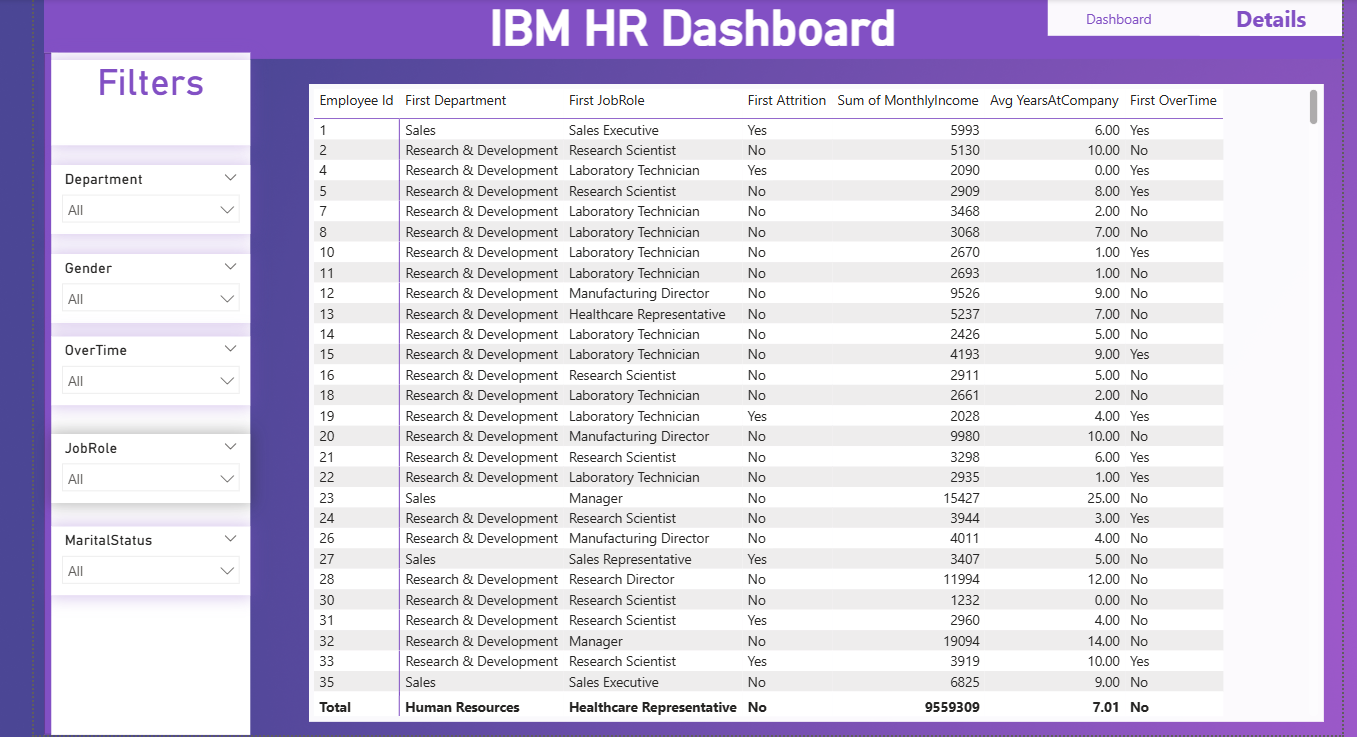

The dashboard page shown, as its layout file describes it:
{"tool":"powerbi","page":{"name":"Details","canvas":[1280,720],"ordinal":1},"visuals":[{"type":"textbox","title":"IBM HR Dashboard","box":[10,0,1270,58.6],"z":0},{"type":"shape","box":[10,52.9,12.9,667.1],"z":1000},{"type":"shape","box":[17.1,52.9,194.3,667.1],"z":2000},{"type":"textbox","title":"Filters","box":[17.1,60,194.3,82.9],"z":3000},{"type":"slicer","fields":{"Values":["WA_Fn_UseC__HR_Employee_Attrition.Department"]},"box":[17.1,162.9,194.3,67.1],"z":4000},{"type":"slicer","fields":{"Values":["WA_Fn_UseC__HR_Employee_Attrition.Department"]},"box":[17.1,162.9,194.3,67.1],"z":5000},{"type":"slicer","fields":{"Values":["WA_Fn_UseC__HR_Employee_Attrition.Gender"]},"box":[17.1,250,194.3,67.1],"z":6000},{"type":"slicer","fields":{"Values":["WA_Fn_UseC__HR_Employee_Attrition.JobRole"]},"box":[17.1,425.7,194.3,67.1],"z":7000},{"type":"slicer","fields":{"Values":["WA_Fn_UseC__HR_Employee_Attrition.MaritalStatus"]},"box":[17.1,515.7,194.3,67.1],"z":8000},{"type":"slicer","fields":{"Values":["WA_Fn_UseC__HR_Employee_Attrition.OverTime"]},"box":[17.1,330,194.3,67.1],"z":9000},{"type":"pivotTable","fields":{"Values":["Min(WA_Fn_UseC__HR_Employee_Attrition.Department)","Min(WA_Fn_UseC__HR_Employee_Attrition.JobRole)","Min(WA_Fn_UseC__HR_Employee_Attrition.Attrition)","Sum(WA_Fn_UseC__HR_Employee_Attrition.MonthlyIncome)","WA_Fn_UseC__HR_Employee_Attrition.Avg YearsAtCompany","Min(WA_Fn_UseC__HR_Employee_Attrition.OverTime)"],"Rows":["WA_Fn_UseC__HR_Employee_Attrition.Employee Id"]},"box":[268.8,83.8,992.5,623.8],"z":10000},{"type":"pageNavigator","box":[991.2,0,288.8,36.2],"z":11000}]}

Visuals, with their boxes on the page's 1280x720 design canvas (x1, y1, x2, y2). These are canvas units, not pixel positions in the 1357x737 screenshot, which may show the page scaled, cropped or inside an application window:
"IBM HR Dashboard" textbox: {"x1": 10, "y1": 0, "x2": 1280, "y2": 59}
shape: {"x1": 10, "y1": 53, "x2": 23, "y2": 720}
shape: {"x1": 17, "y1": 53, "x2": 211, "y2": 720}
"Filters" textbox: {"x1": 17, "y1": 60, "x2": 211, "y2": 143}
slicer - WA_Fn_UseC__HR_Employee_Attrition.Department: {"x1": 17, "y1": 163, "x2": 211, "y2": 230}
slicer - WA_Fn_UseC__HR_Employee_Attrition.Department: {"x1": 17, "y1": 163, "x2": 211, "y2": 230}
slicer - WA_Fn_UseC__HR_Employee_Attrition.Gender: {"x1": 17, "y1": 250, "x2": 211, "y2": 317}
slicer - WA_Fn_UseC__HR_Employee_Attrition.JobRole: {"x1": 17, "y1": 426, "x2": 211, "y2": 493}
slicer - WA_Fn_UseC__HR_Employee_Attrition.MaritalStatus: {"x1": 17, "y1": 516, "x2": 211, "y2": 583}
slicer - WA_Fn_UseC__HR_Employee_Attrition.OverTime: {"x1": 17, "y1": 330, "x2": 211, "y2": 397}
pivotTable - Min(WA_Fn_UseC__HR_Employee_Attrition.Department) x Min(WA_Fn_UseC__HR_Employee_Attrition.JobRole): {"x1": 269, "y1": 84, "x2": 1261, "y2": 708}
pageNavigator: {"x1": 991, "y1": 0, "x2": 1280, "y2": 36}
